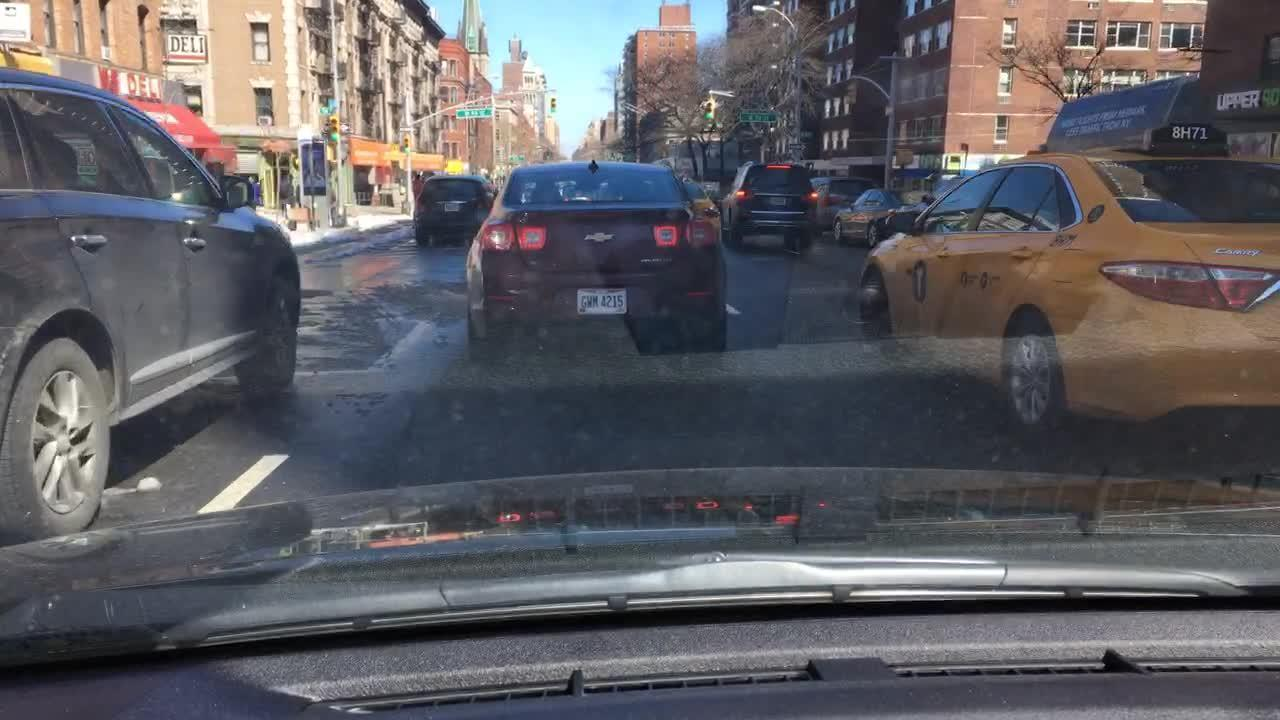chevrolet: (583, 229, 618, 250)
